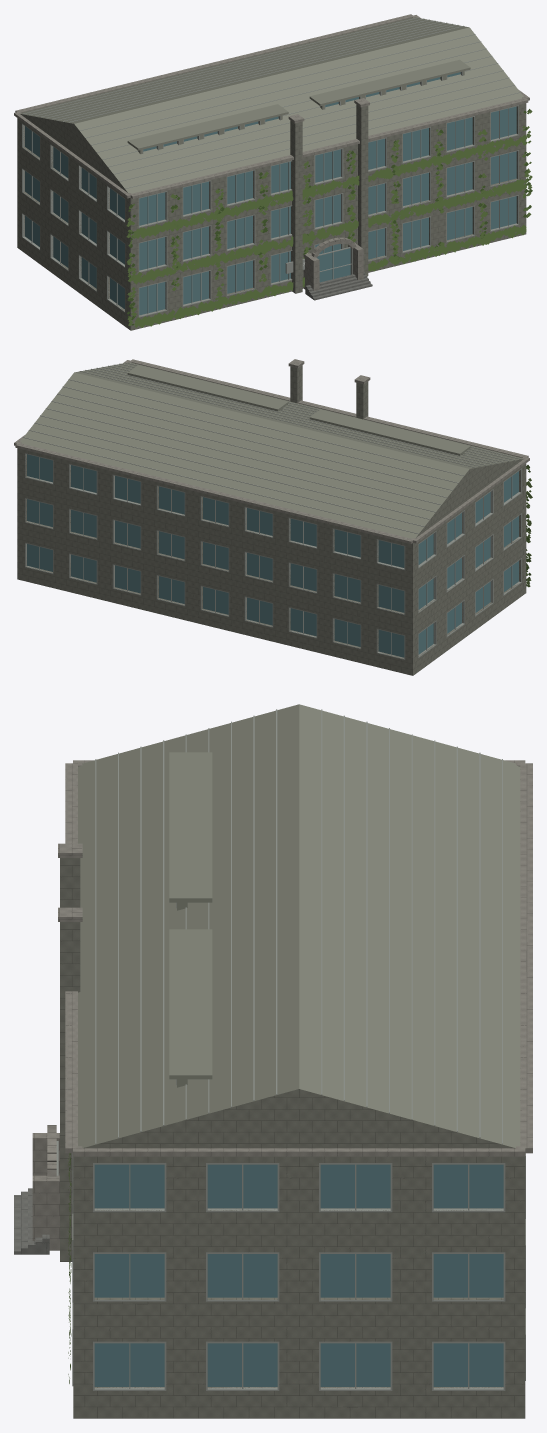
3 renders of one model, top to bottom at view 1: azimuth 30°, elevation 25°; view 2: azimuth 150°, elevation 25°; view 3: azimuth 270°, elevation 25°, orthographic. The views are drawn at different scales.
Parts seen in each view (by area): view 1: yueokgyeom__roof, yueokgyeom__stone, yueokgyeom__glass, yueokgyeom__frame, yueokgyeom__ivy, yueokgyeom__cream, yueokgyeom__ivyDark, yueokgyeom__rough; view 2: yueokgyeom__stone, yueokgyeom__roof, yueokgyeom__glass, yueokgyeom__frame, yueokgyeom__cream; view 3: yueokgyeom__roof, yueokgyeom__stone, yueokgyeom__glass, yueokgyeom__frame, yueokgyeom__cream, yueokgyeom__rough.
Part boxes in pixels (bbox=[...]): yueokgyeom__roof: bbox=[20, 17, 523, 193]; yueokgyeom__stone: bbox=[17, 103, 526, 330]; yueokgyeom__glass: bbox=[25, 72, 516, 315]; yueokgyeom__frame: bbox=[22, 17, 520, 317]; yueokgyeom__ivy: bbox=[126, 110, 532, 327]; yueokgyeom__cream: bbox=[14, 14, 529, 290]; yueokgyeom__ivyDark: bbox=[127, 109, 532, 325]; yueokgyeom__rough: bbox=[305, 272, 372, 300]; yueokgyeom__stone: bbox=[17, 365, 526, 675]; yueokgyeom__roof: bbox=[20, 362, 523, 538]; yueokgyeom__glass: bbox=[27, 454, 518, 657]; yueokgyeom__frame: bbox=[23, 362, 521, 659]; yueokgyeom__cream: bbox=[14, 359, 529, 543]; yueokgyeom__roof: bbox=[78, 704, 520, 1148]; yueokgyeom__stone: bbox=[60, 858, 525, 1418]; yueokgyeom__glass: bbox=[94, 1164, 503, 1386]; yueokgyeom__frame: bbox=[56, 709, 525, 1390]; yueokgyeom__cream: bbox=[32, 760, 532, 1250]; yueokgyeom__rough: bbox=[14, 1188, 49, 1254].
Bounding box in the file's own units: 37.05 × 15.11 × 20.54.
9 materials, 3 textured.
